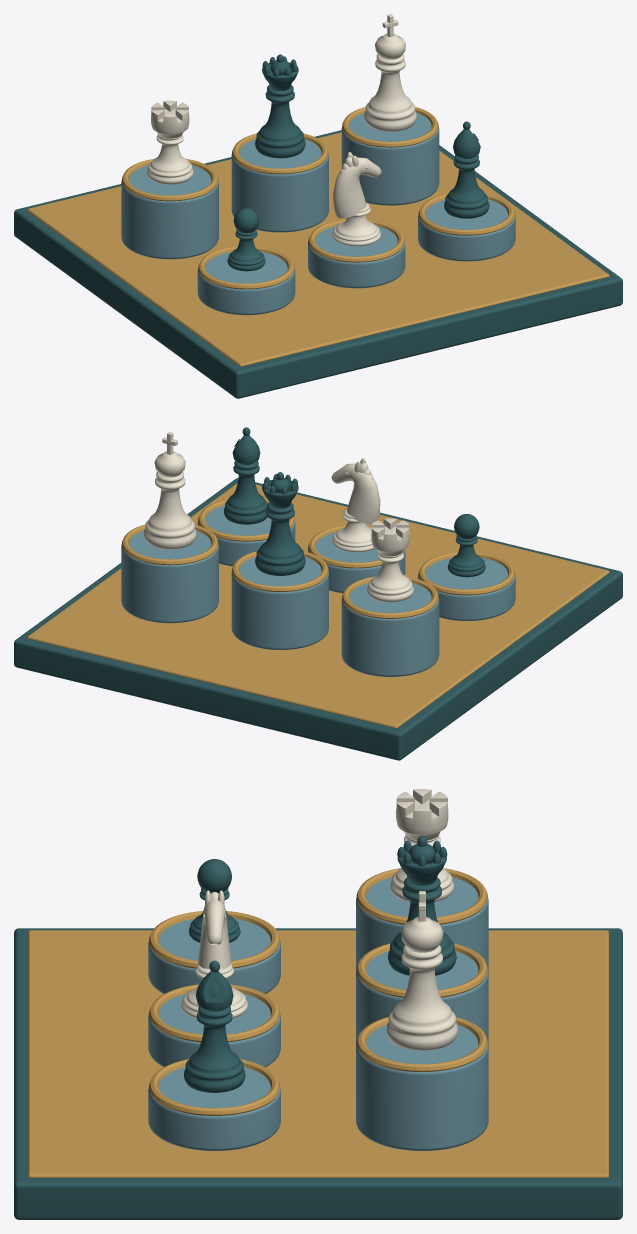
Rendered from chess_arsenal.cpp.glb.
The picture shows the model from 3 angles, top to bottom: view 1: azimuth 30°, elevation 25°; view 2: azimuth 150°, elevation 25°; view 3: azimuth 270°, elevation 25°; orthographic projection. The views are drawn at different scales.
Parts seen in each view (by area): view 1: Cube.001, Cube, Cylinder.003, Cylinder.004, Cylinder.005, Cylinder, Cylinder.002, Cylinder.001, K.002, Q.002, N.002, R.002 (+8 smaller); view 2: Cube.001, Cube, Cylinder.003, Cylinder.004, Cylinder.005, Cylinder, K.002, Q.002, N.002, R.002, B.002, Cylinder.002 (+8 smaller); view 3: Cube.001, Cube, Cylinder.005, Cylinder.002, K.002, Cylinder, Cylinder.003, B.002, Cylinder.004, Cylinder.001, Q.002, R.002 (+8 smaller).
Part boxes in pixels (x1=…): Cube.001: x1=27, y1=132, x2=609, y2=366; Cube: x1=14, y1=130, x2=622, y2=398; Cylinder.003: x1=121, y1=165, x2=218, y2=259; Cylinder.004: x1=231, y1=139, x2=328, y2=232; Cylinder.005: x1=341, y1=112, x2=439, y2=205; Cylinder: x1=197, y1=252, x2=295, y2=315; Cylinder.002: x1=418, y1=199, x2=515, y2=261; Cylinder.001: x1=308, y1=226, x2=405, y2=288; K.002: x1=364, y1=14, x2=416, y2=131; Q.002: x1=255, y1=54, x2=305, y2=158; N.002: x1=332, y1=152, x2=381, y2=246; R.002: x1=146, y1=100, x2=193, y2=184; Cube.001: x1=27, y1=483, x2=609, y2=728; Cube: x1=14, y1=478, x2=622, y2=760; Cylinder.003: x1=341, y1=583, x2=439, y2=676; Cylinder.004: x1=231, y1=557, x2=328, y2=649; Cylinder.005: x1=121, y1=530, x2=218, y2=623; Cylinder: x1=418, y1=557, x2=515, y2=620; K.002: x1=144, y1=432, x2=196, y2=549; Q.002: x1=255, y1=472, x2=305, y2=575; N.002: x1=331, y1=458, x2=380, y2=552; R.002: x1=367, y1=518, x2=413, y2=602; B.002: x1=223, y1=427, x2=267, y2=524; Cylinder.002: x1=197, y1=505, x2=295, y2=566; Cube.001: x1=28, y1=930, x2=608, y2=1177; Cube: x1=14, y1=928, x2=622, y2=1219; Cylinder.005: x1=356, y1=1024, x2=488, y2=1150; Cylinder.002: x1=148, y1=1067, x2=280, y2=1150; K.002: x1=386, y1=891, x2=457, y2=1050; Cylinder: x1=148, y1=918, x2=280, y2=993; Cylinder.003: x1=356, y1=877, x2=488, y2=971; B.002: x1=183, y1=960, x2=245, y2=1092; Cylinder.004: x1=356, y1=951, x2=488, y2=1044; Cylinder.001: x1=148, y1=993, x2=280, y2=1066; Q.002: x1=388, y1=835, x2=456, y2=975; R.002: x1=390, y1=789, x2=454, y2=901.
Size of the model in its own units: 4.4 by 2.18 by 4.4.
